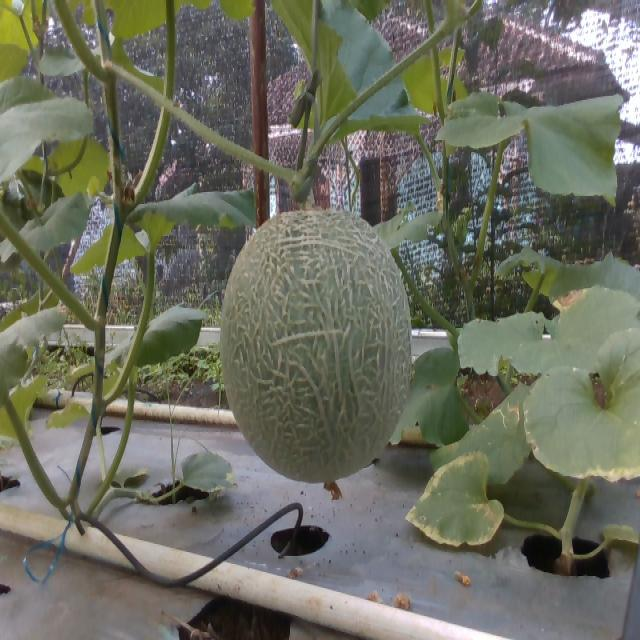melon: (222, 209, 411, 483)
